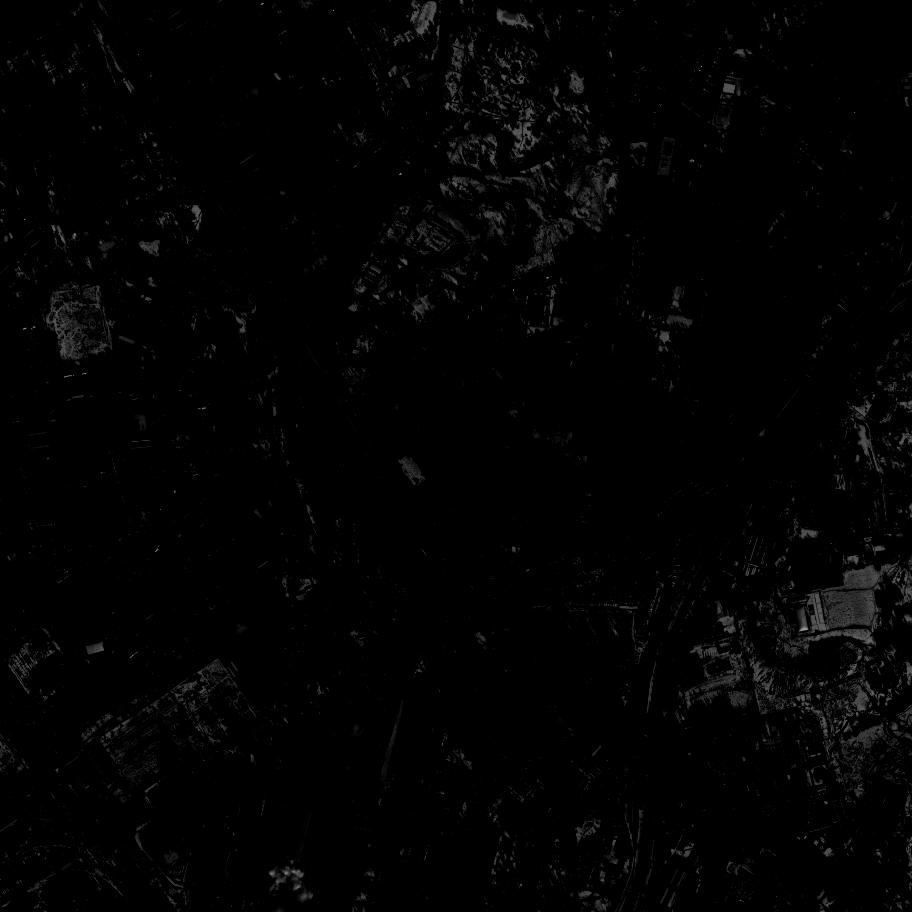storage-tank: (152, 836, 172, 856), (166, 796, 186, 815), (164, 851, 181, 867), (179, 785, 193, 800)
